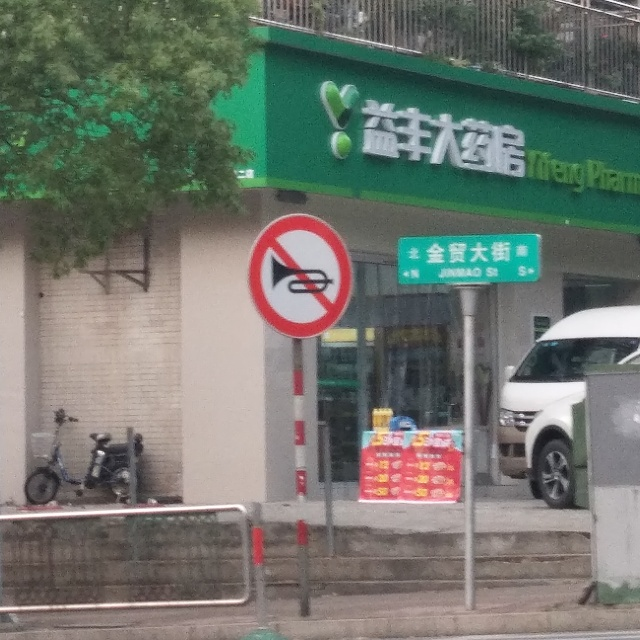nohonk: (250, 225, 349, 325)
